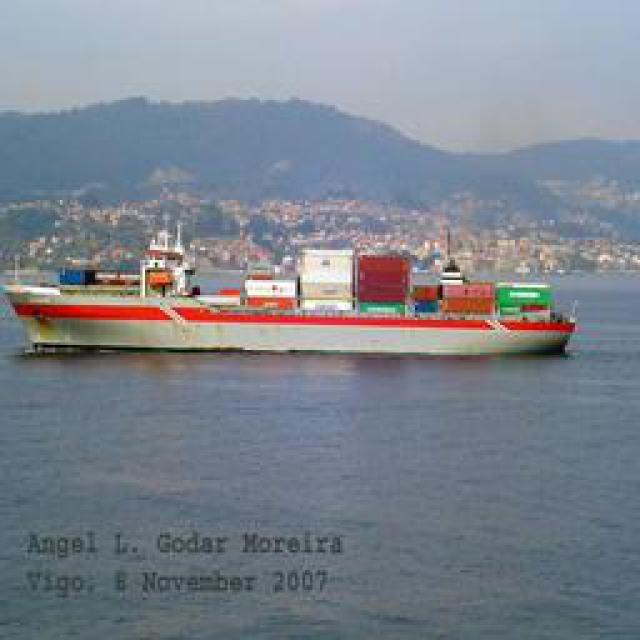Ship: (7, 251, 567, 356)
